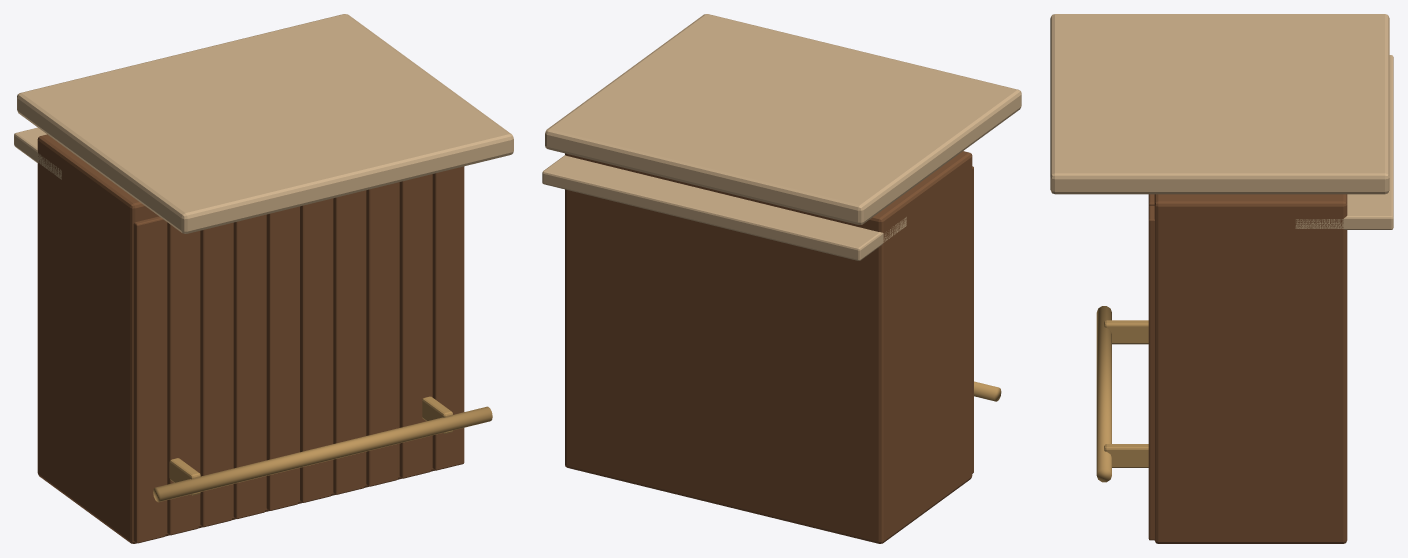
File: barSegment.glb
The picture shows the model from 3 angles, left to right: view 1: azimuth 30°, elevation 25°; view 2: azimuth 150°, elevation 25°; view 3: azimuth 270°, elevation 25°; orthographic projection. The views are drawn at different scales.
Visible parts, largest first — view 1: body; view 2: body; view 3: body.
Part boxes in pixels (x1=…): body: x1=14, y1=14, x2=513, y2=543; body: x1=542, y1=14, x2=1021, y2=543; body: x1=1050, y1=14, x2=1393, y2=543.
Bounding box in the file's own units: 1 × 1.06 × 0.89.
